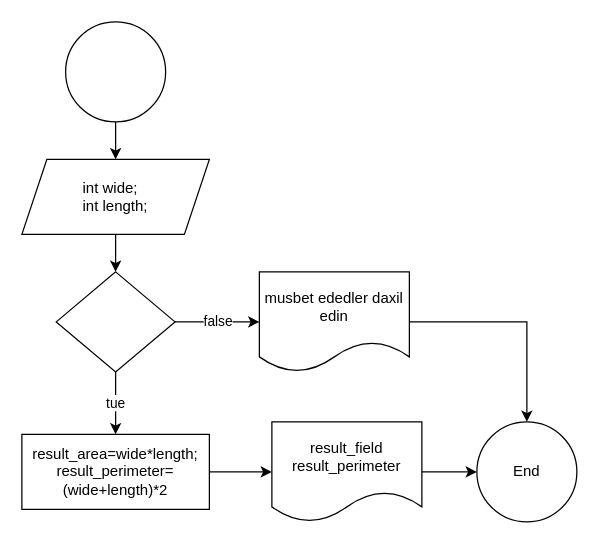
Some shapes in this 599 by 544 pixel diagram are drawn without their labels. The shapes that lost their labels are listed below. From the top down, each one's centre as x and y in pixels, then its label:
the point at 115,71: Start
the point at 115,321: wide>0 && length>0
